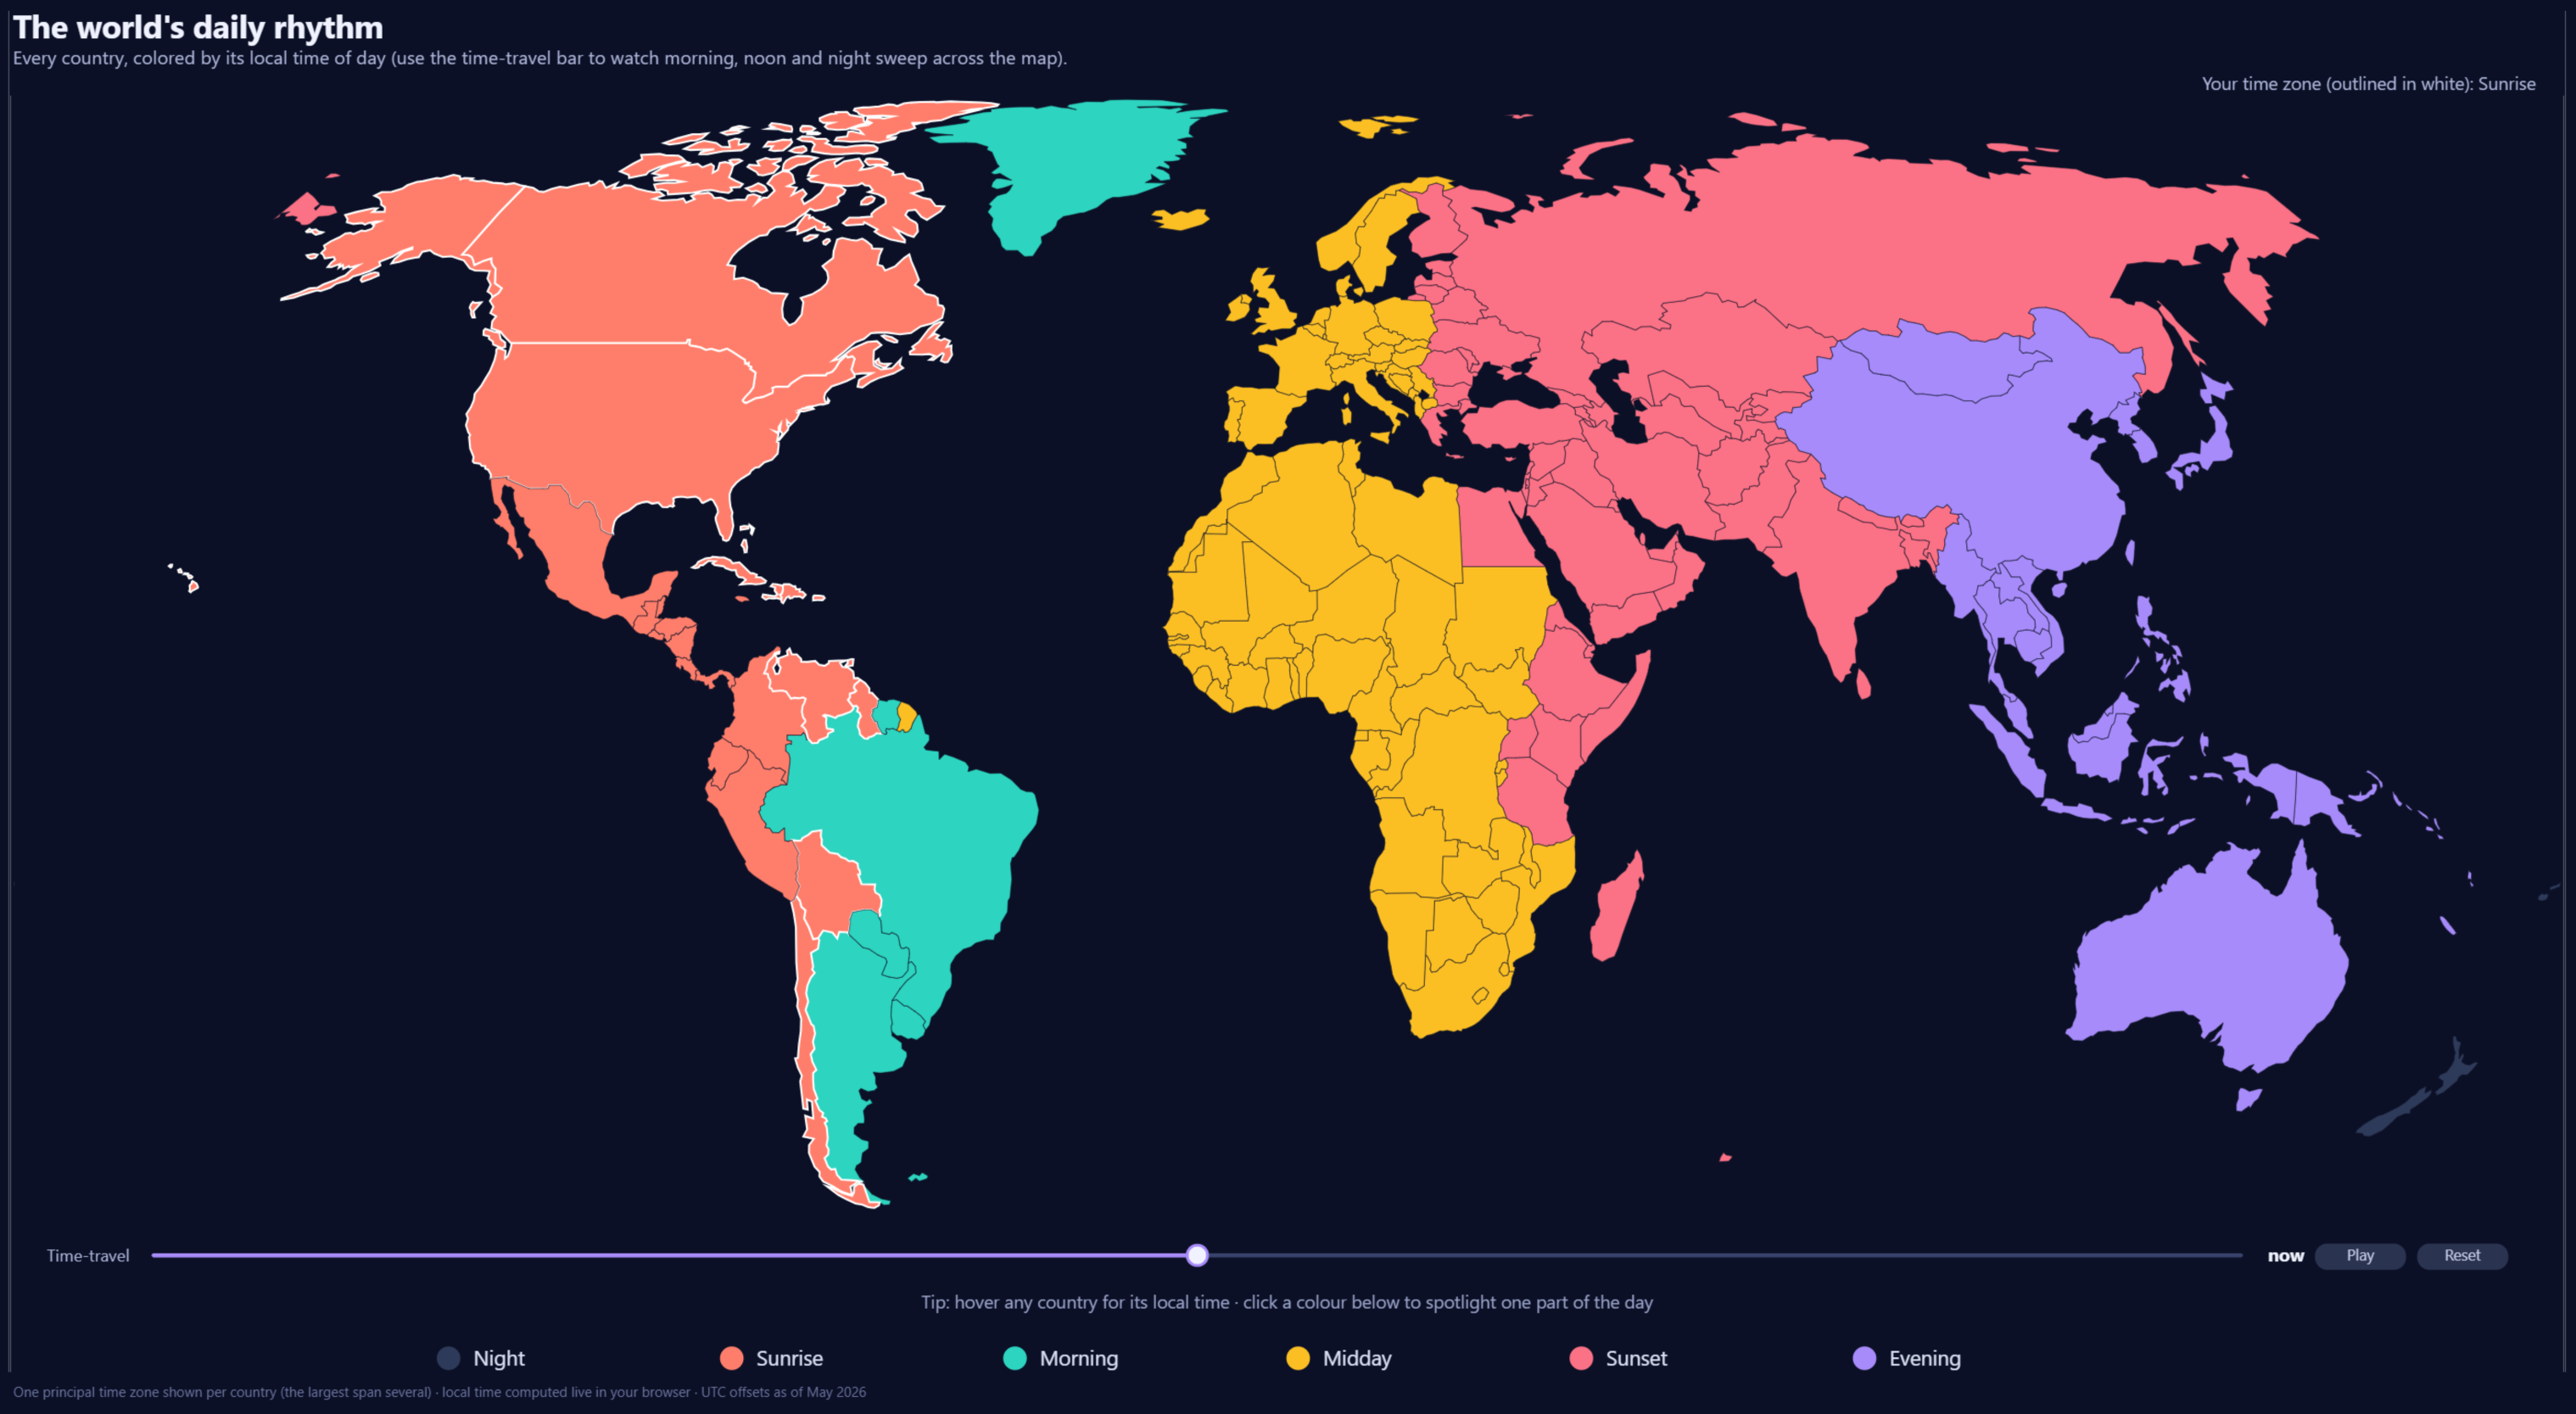

The page's visual inventory and layout, read from the dashboard file:
{"tool":"powerbi","page":{"name":"Page 1","canvas":[1920,1080],"ordinal":0},"visuals":[{"type":"deneb7E15AEF80B9E4D4F8E12924291ECE89A","fields":{"dataset":["Countries.CountryId","Countries.UtcOffset","Countries.CountryName","Countries.Region"]},"box":[0,0,1920,1080],"z":0}]}

Visuals, with their boxes in screenshot pixels (x1, y1, x2, y2), scaled from the page's 1920x1080 canvas onto the 2576x1414 screenshot:
deneb7E15AEF80B9E4D4F8E12924291ECE89A - Countries.CountryId x Countries.UtcOffset: 0, 0, 2575, 1413
